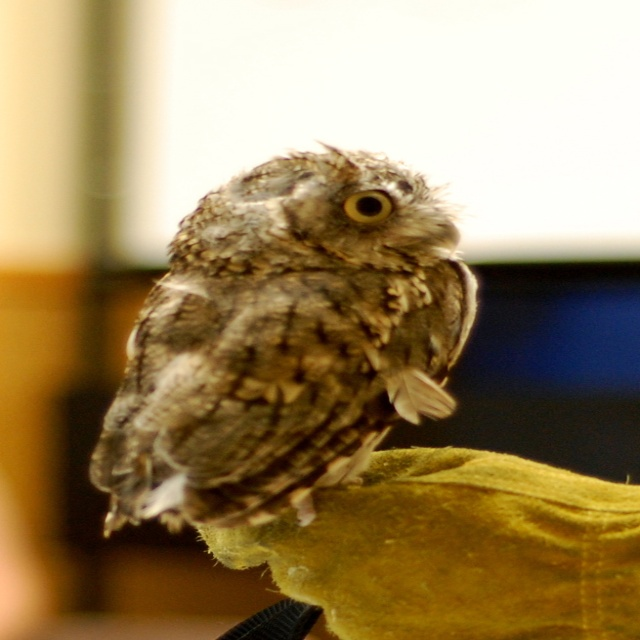Owl: (85, 143, 484, 540)
